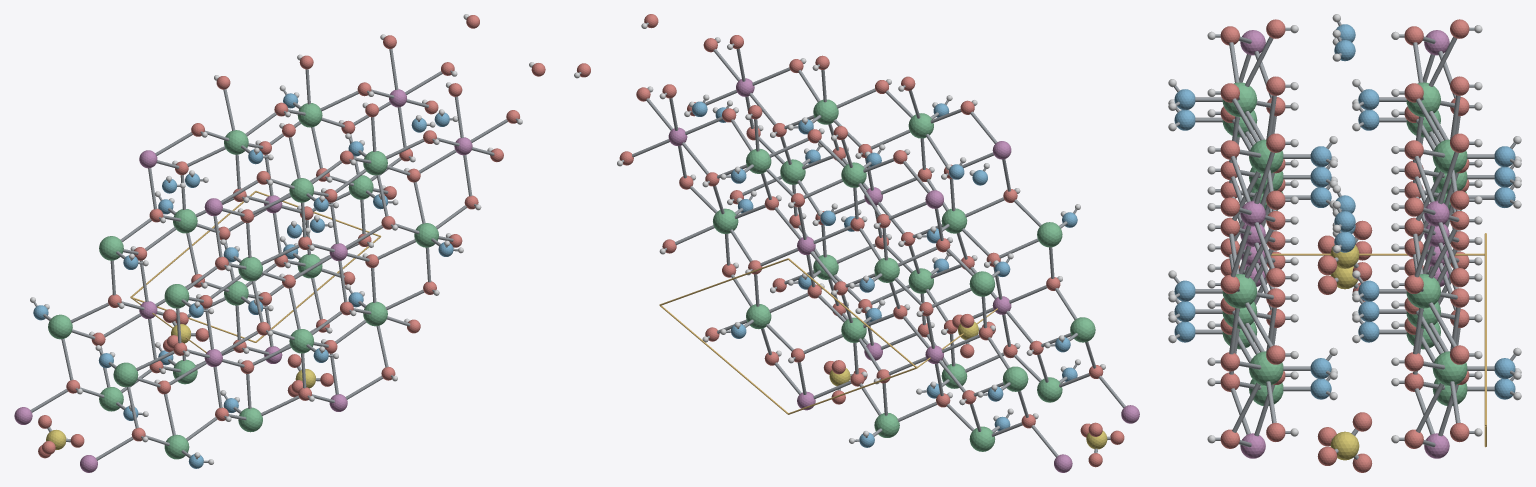
Rendered from AFm_modelo_completo_monossulfato.glb.
The picture shows the model from 3 angles, left to right: view 1: azimuth 30°, elevation 25°; view 2: azimuth 150°, elevation 25°; view 3: azimuth 270°, elevation 25°; orthographic projection. The views are drawn at different scales.
Visible parts, largest first — view 1: no part large enough to name; view 2: no part large enough to name; view 3: Ca_123, Ca_13, Ca_14, Ca_124, Ca_121, Ca_11, Ca_117, Ca_7, S_242, cell_2, Al_122, Al_12 (+10 smaller).
Boxes of the visible parts, box(x1,y1,x2,y2) form: Ca_123: box(1249, 351, 1283, 385); Ca_13: box(1432, 351, 1467, 385); Ca_14: box(1406, 274, 1440, 308); Ca_124: box(1222, 274, 1257, 308); Ca_121: box(1249, 139, 1283, 173); Ca_11: box(1432, 139, 1467, 173); Ca_117: box(1222, 82, 1257, 116); Ca_7: box(1406, 82, 1440, 116); S_242: box(1330, 431, 1359, 460); cell_2: box(1484, 233, 1486, 425); Al_122: box(1240, 433, 1265, 458); Al_12: box(1424, 433, 1449, 458).
Size of the model in its own units: 33.69 by 20.24 by 15.18.
